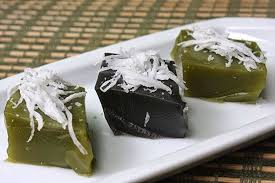kanompiakpoon: (3, 71, 100, 181), (97, 48, 197, 145), (173, 22, 270, 111)
